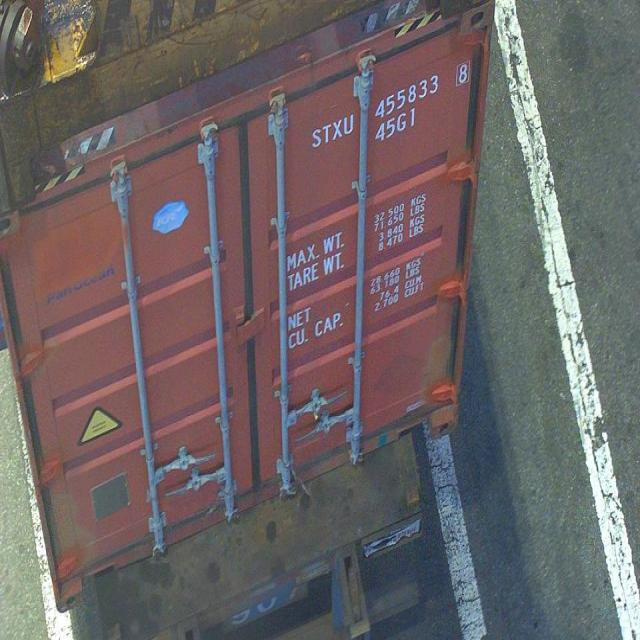ISO: (376, 106, 416, 148)
container_number: (312, 51, 476, 148)
